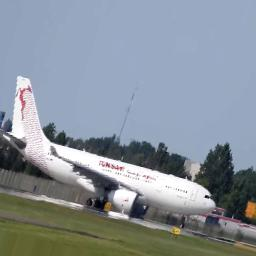Airplane: (2, 72, 217, 221)
